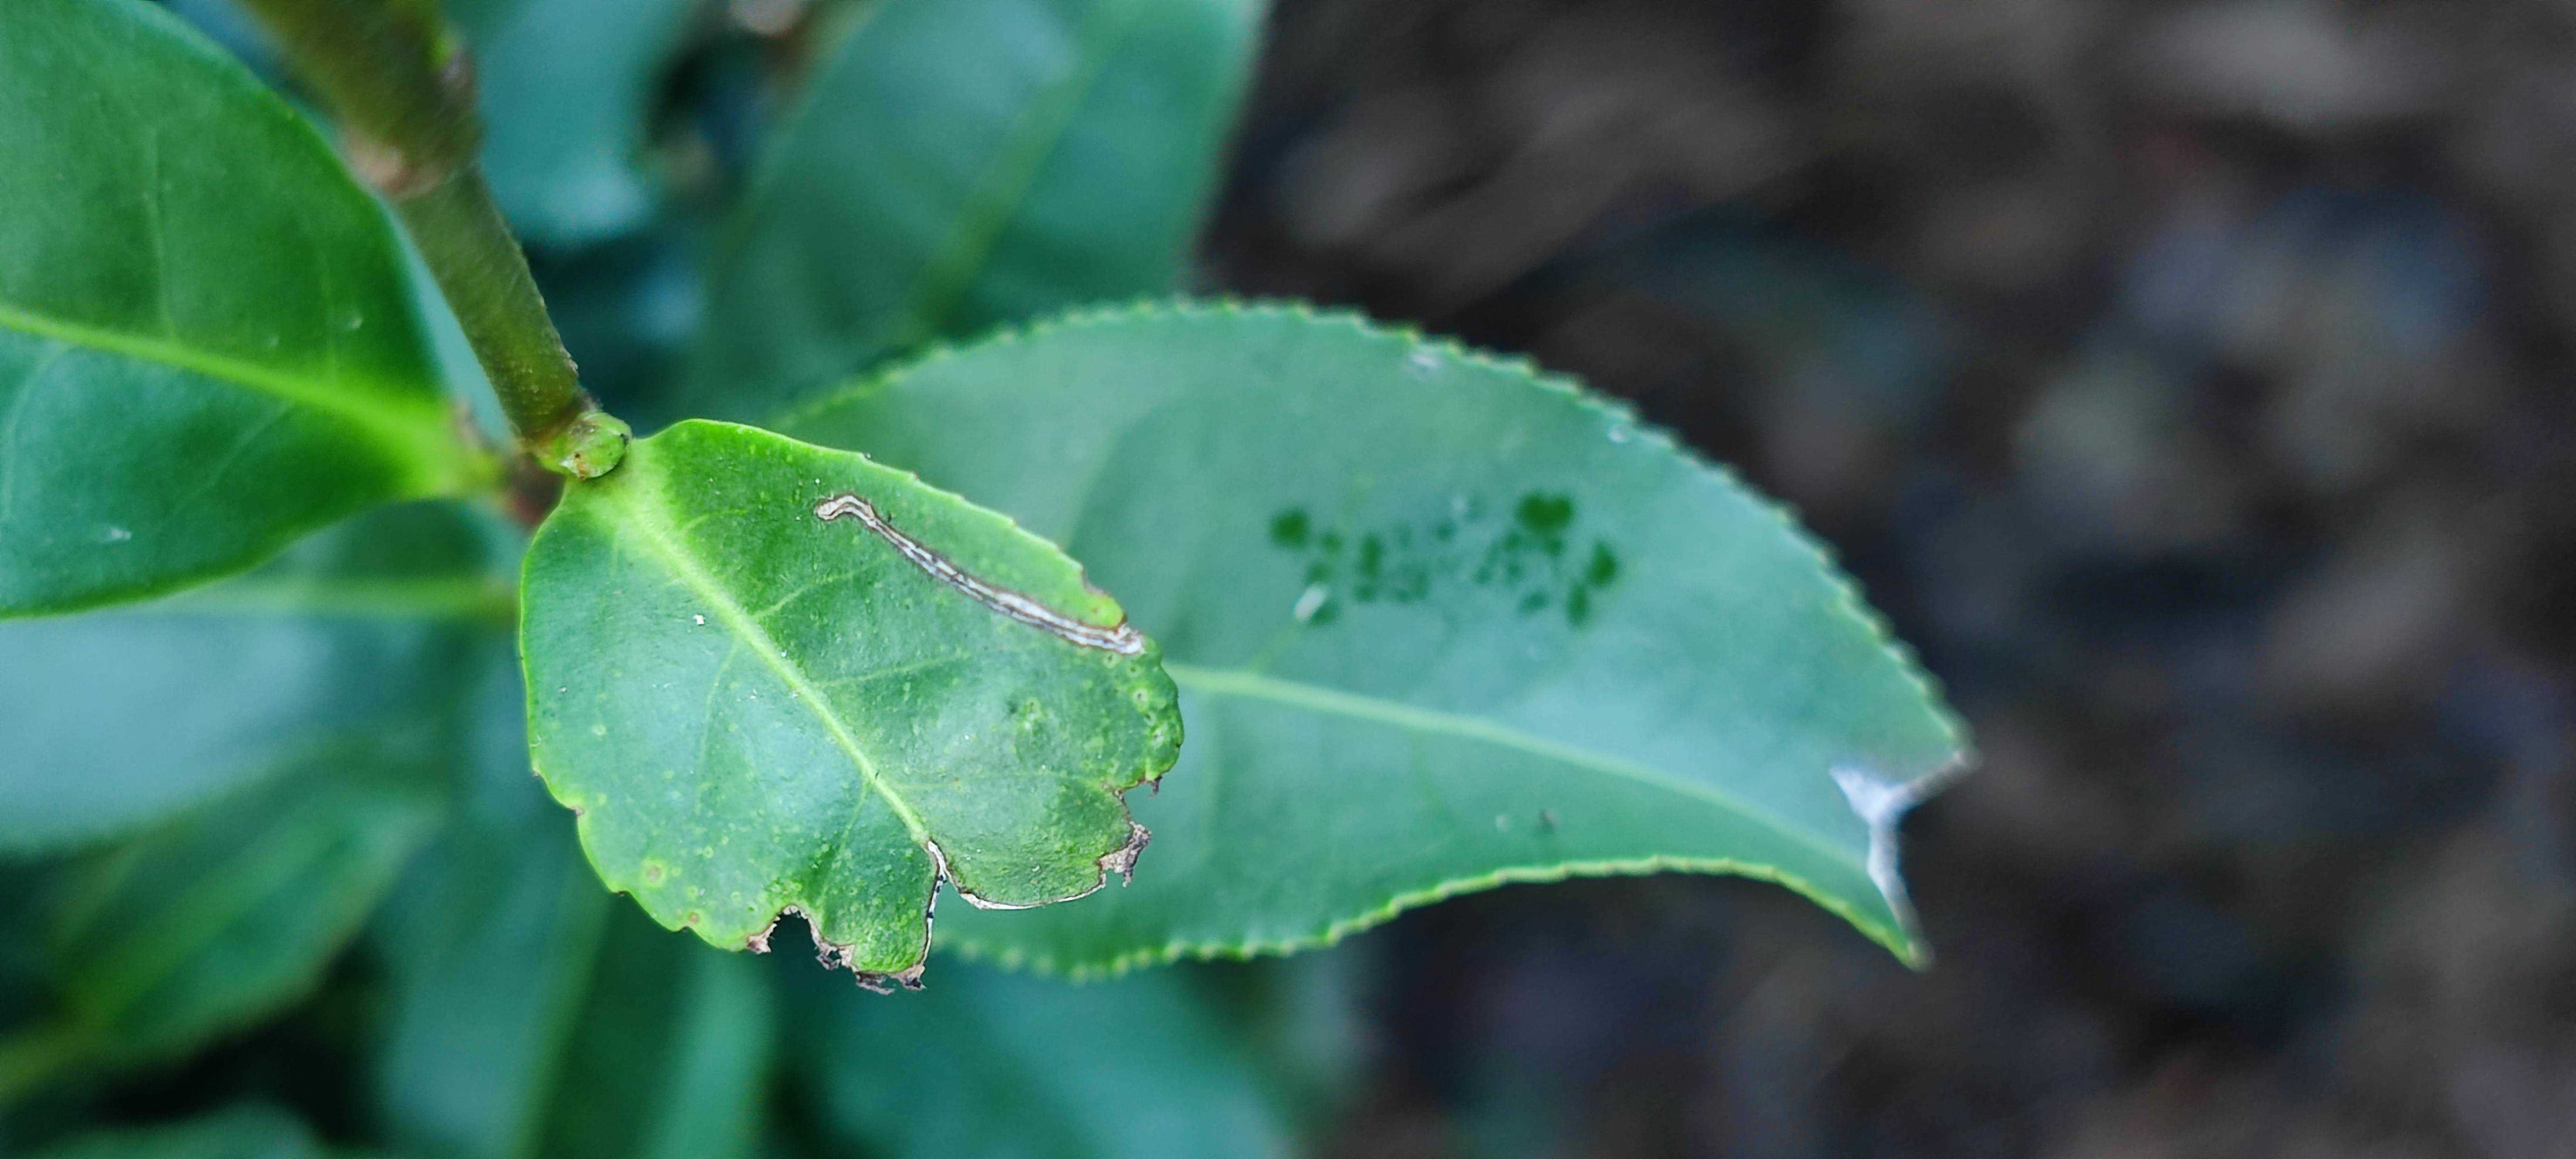chihuo_high: (514, 414, 1184, 995)
chihuo_low: (772, 284, 1981, 978)
